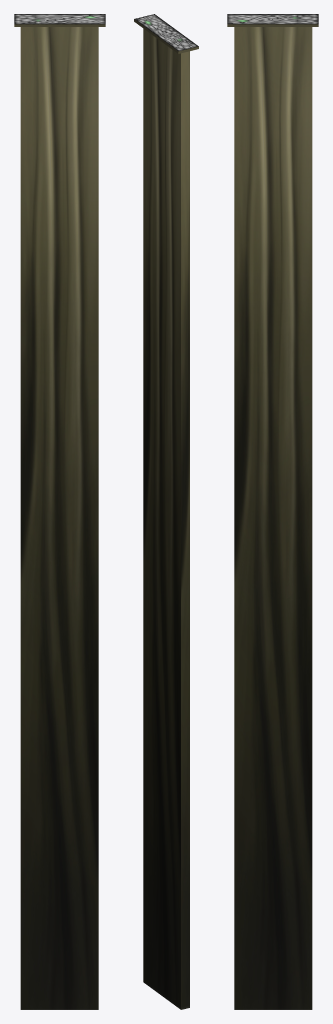
The model's file is YolModel.fbx.
The picture shows the model from 3 angles, left to right: view 1: azimuth 90°, elevation 25°; view 2: azimuth 210°, elevation 25°; view 3: azimuth 270°, elevation 25°; orthographic projection. The views are drawn at different scales.
Parts seen in each view (by area): view 1: zemin_2, zemin_3; view 2: zemin_2, zemin_3; view 3: zemin_2, zemin_3.
Part boxes in pixels (left/top/right/bottom): zemin_2: left=14, top=24, right=105, bottom=1009; zemin_3: left=14, top=14, right=105, bottom=24; zemin_2: left=134, top=19, right=198, bottom=1009; zemin_3: left=134, top=14, right=198, bottom=51; zemin_2: left=227, top=24, right=318, bottom=1009; zemin_3: left=227, top=14, right=318, bottom=24.
Bounding box in the file's own units: 92.43 × 4143 × 346.
Materials: 2 (2 with a texture image).
